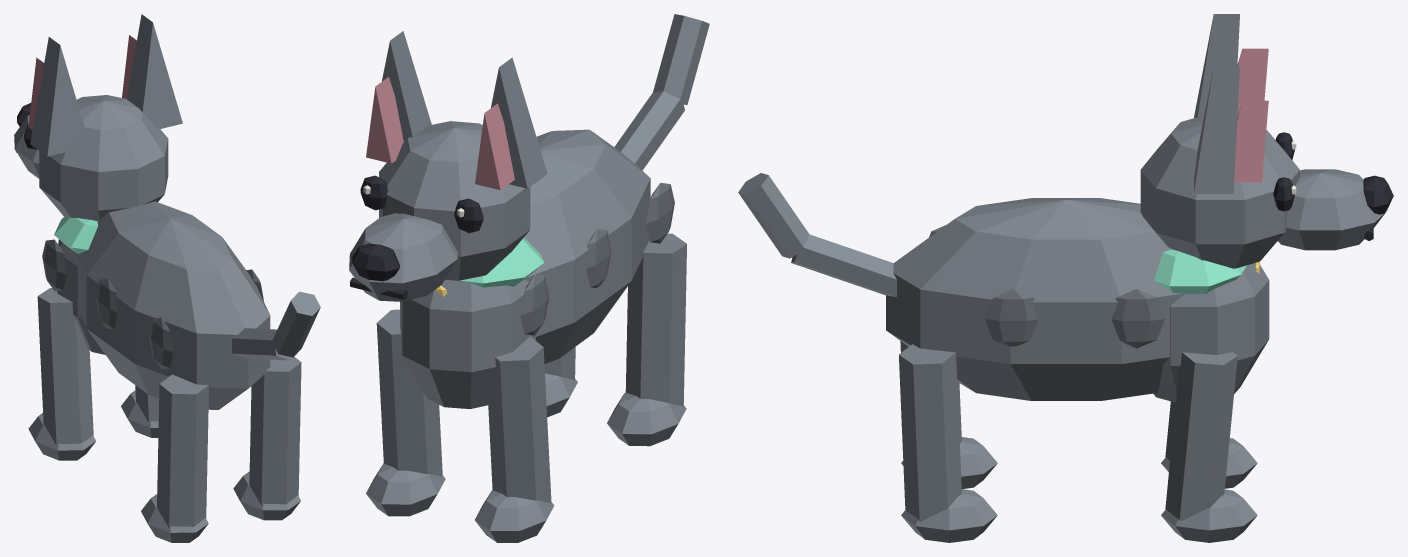
The model's file is xoloitzcuintli.glb.
The picture shows the model from 3 angles, left to right: view 1: azimuth 30°, elevation 25°; view 2: azimuth 150°, elevation 25°; view 3: azimuth 270°, elevation 25°; orthographic projection. The views are drawn at different scales.
Parts seen in each view (by area): view 1: BodyMesh, HeadMesh; view 2: BodyMesh, HeadMesh; view 3: BodyMesh, HeadMesh.
Boxes of the visible parts, <box> form: BodyMesh: <box>28,201,320,542</box>; HeadMesh: <box>14,14,182,221</box>; BodyMesh: <box>366,14,709,542</box>; HeadMesh: <box>349,31,547,301</box>; BodyMesh: <box>738,173,1269,542</box>; HeadMesh: <box>1140,14,1393,268</box>.
Bounding box in the file's own units: 0.444 × 1.19 × 1.49.
